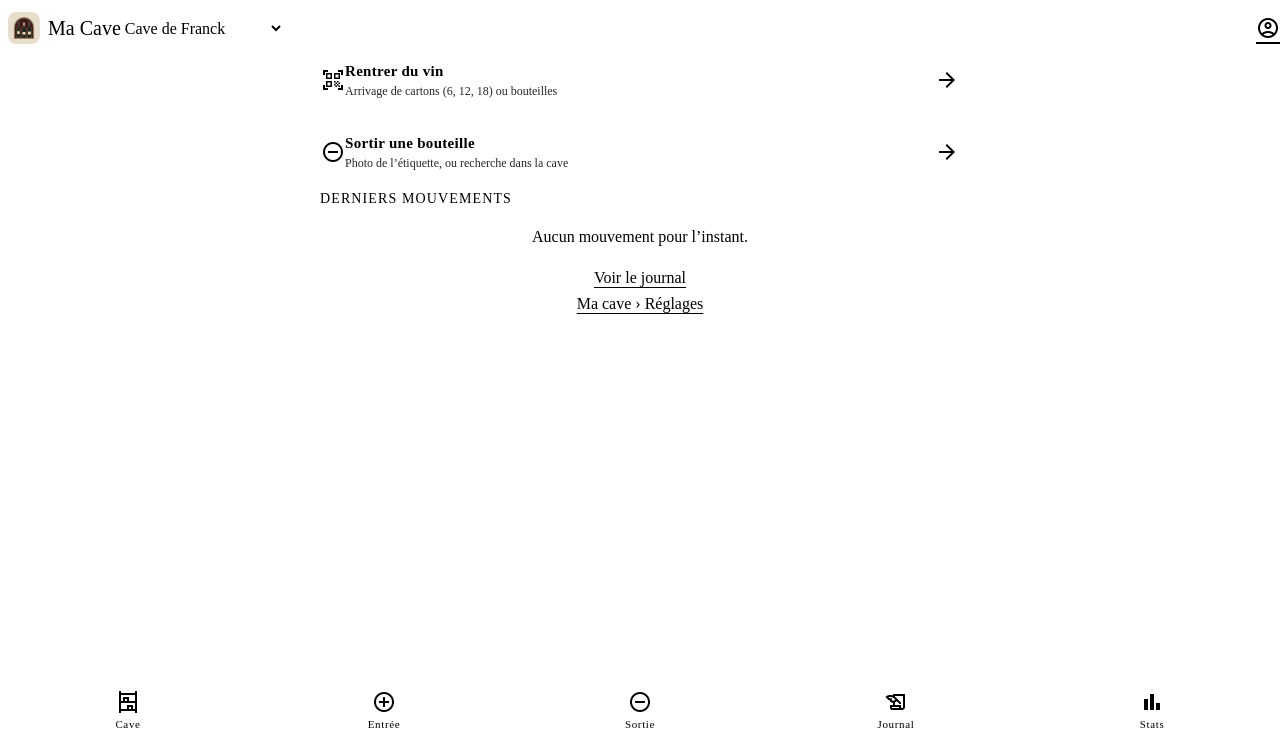
Test: changement de cave › depuis l’accueil, ne relance ni « à confirmer » ni la file d’analyse pour une cave en lecture
Select "Cave de Paul (lecture)" in the dropdown named "Cave" at (202, 28), box [121,12,284,44]
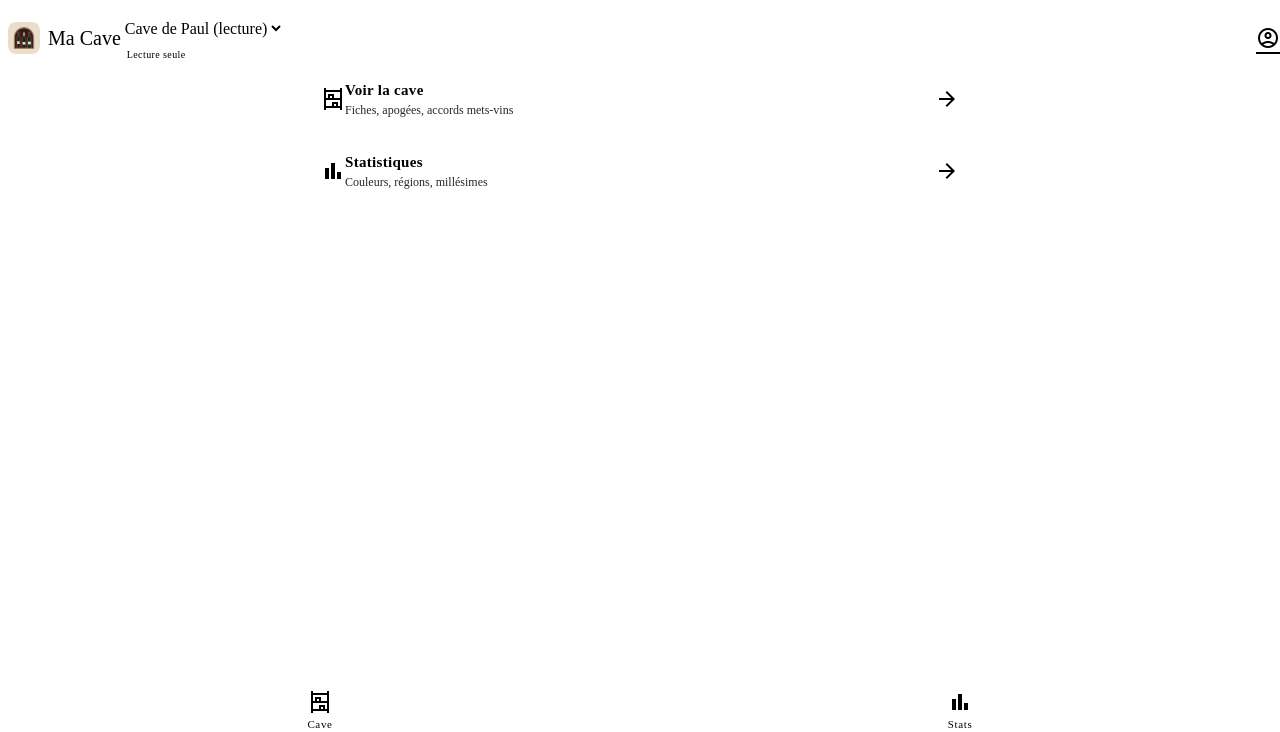
Check: the link "Voir la cave Fiches, apogées, accords mets-vins" is shown, box [321,82,959,117]
